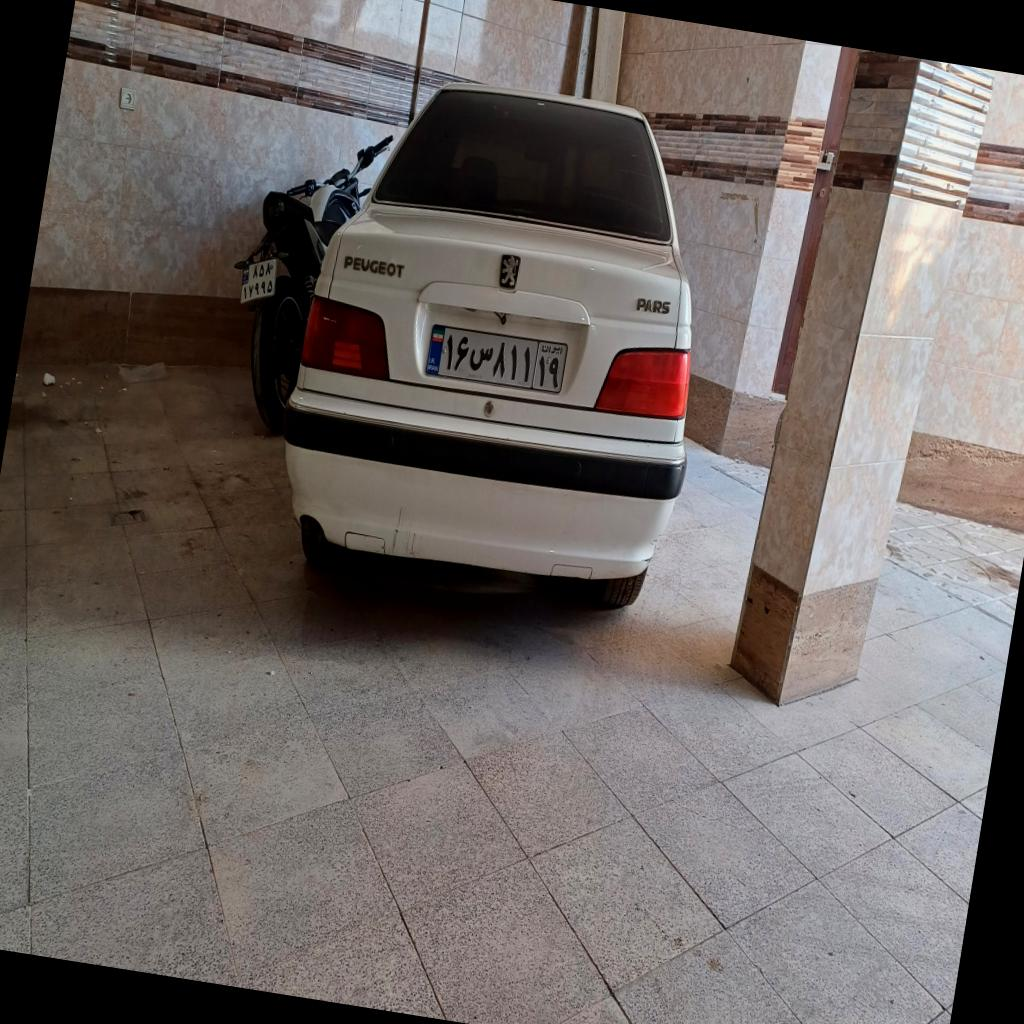Plates: (422, 316, 572, 402)
